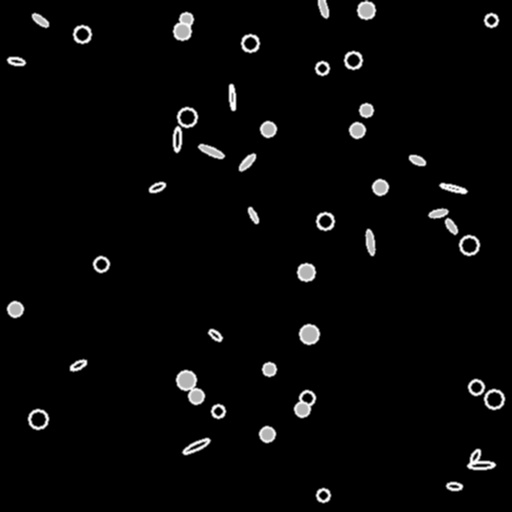pseudomonas: (197, 142, 225, 160), (182, 437, 210, 455), (238, 152, 256, 172), (439, 182, 467, 194), (31, 12, 49, 28), (365, 229, 375, 255), (207, 327, 223, 343), (444, 217, 458, 235), (69, 358, 87, 372), (428, 207, 448, 219), (408, 154, 426, 166), (148, 181, 166, 193), (317, 0, 329, 18), (228, 84, 236, 110), (247, 207, 259, 223), (469, 448, 481, 464), (7, 56, 25, 66), (468, 462, 494, 468), (174, 126, 180, 152), (446, 482, 462, 490)
synechocystis: (460, 236, 478, 254), (300, 325, 318, 343), (29, 410, 47, 428), (177, 371, 195, 389), (485, 390, 503, 408), (178, 108, 196, 126), (298, 264, 314, 280), (174, 23, 190, 39), (242, 35, 258, 51), (74, 26, 90, 42), (345, 52, 361, 68), (358, 2, 374, 18), (317, 213, 333, 229), (8, 302, 22, 316), (260, 427, 274, 441), (189, 389, 203, 403), (469, 380, 483, 394), (373, 180, 387, 194), (94, 257, 108, 271), (300, 391, 314, 405), (350, 123, 364, 137), (295, 402, 309, 416), (261, 122, 275, 136), (180, 13, 192, 25), (263, 363, 275, 375), (212, 405, 224, 417), (485, 14, 497, 26), (360, 104, 372, 116), (316, 62, 328, 74), (317, 489, 329, 501)
